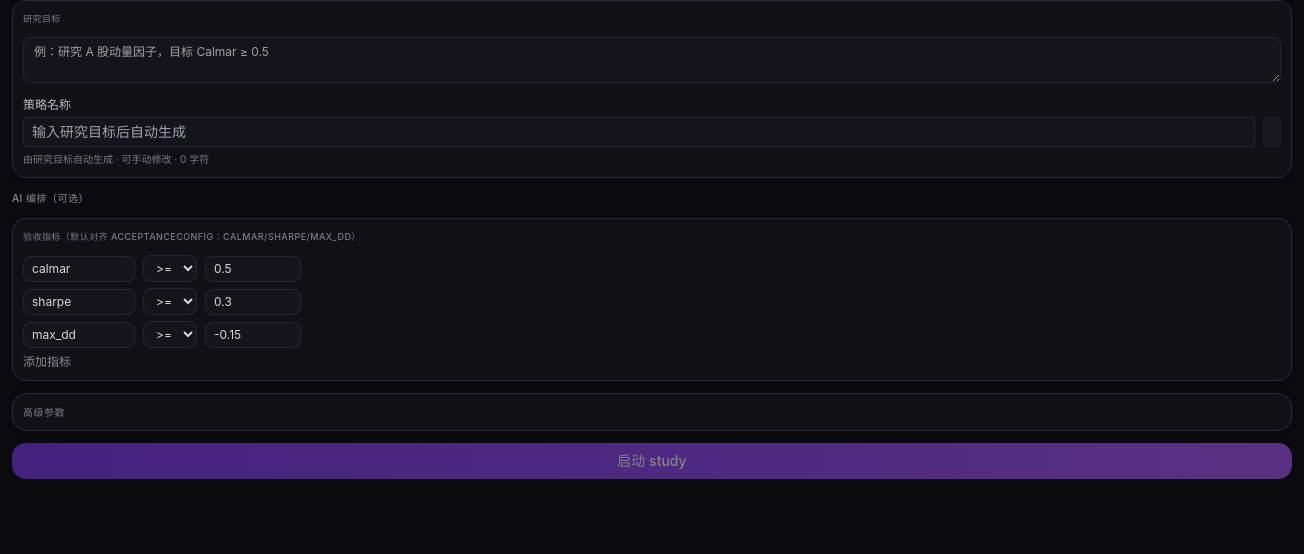
StudyCreatePanel › stays mounted without a session and blocks submit at validation
In the text box with placeholder "例：研究 A 股动量因子，目标 Calmar ≥ 0.5": (652, 60) x1=23 y1=37 x2=1281 y2=83, type "测试目标"
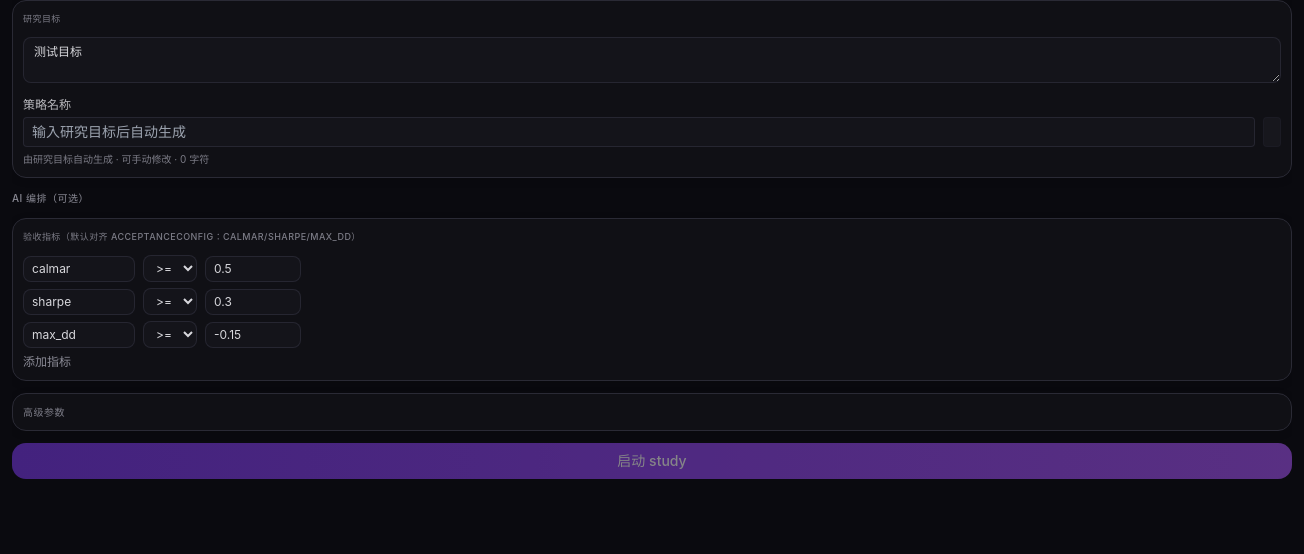
In the field with placeholder "输入研究目标后自动生成": (639, 132) x1=23 y1=117 x2=1255 y2=147, type "demo_strategy"
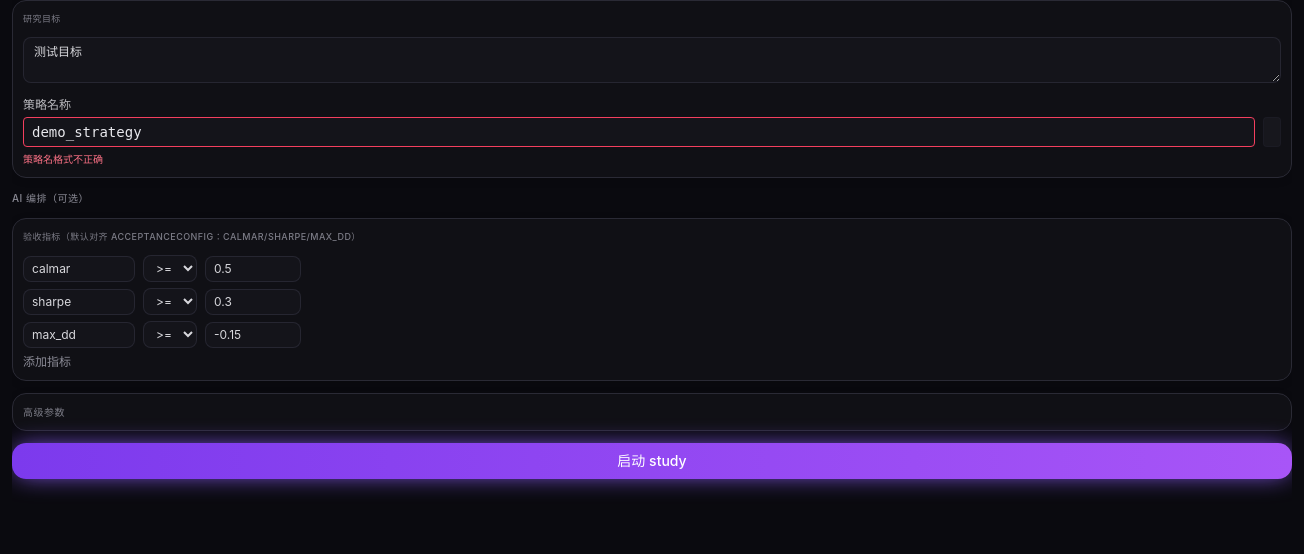
Check: the button "启动 study" is enabled
Click the button "启动 study": (652, 461) x1=12 y1=443 x2=1292 y2=479
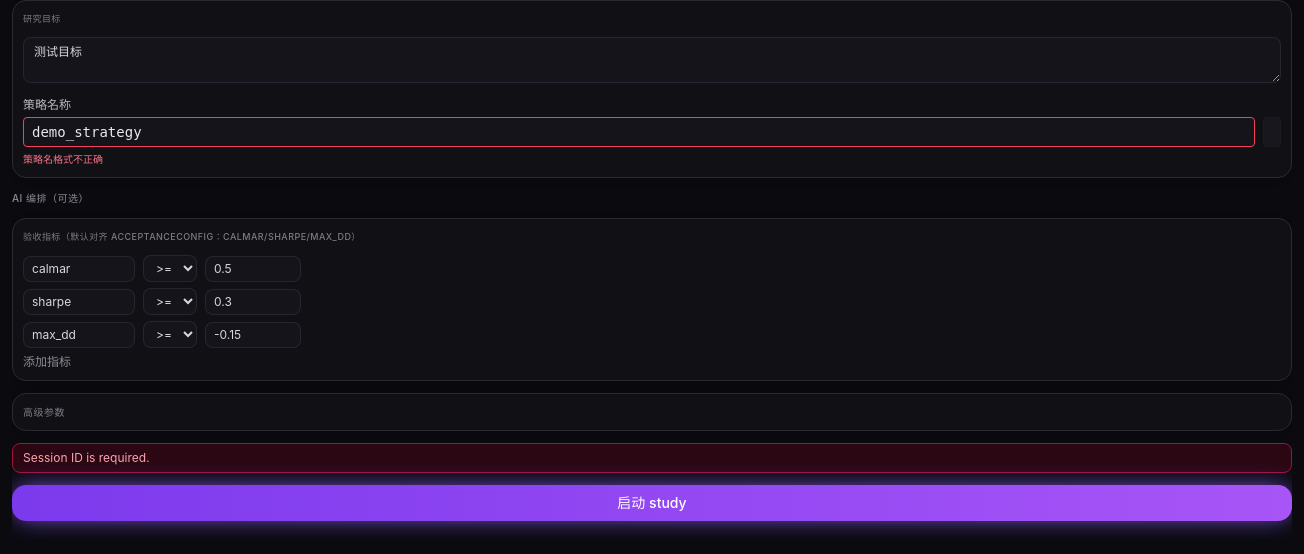
Check: the text "Session ID is required." is shown, box x1=12 y1=443 x2=1292 y2=473
